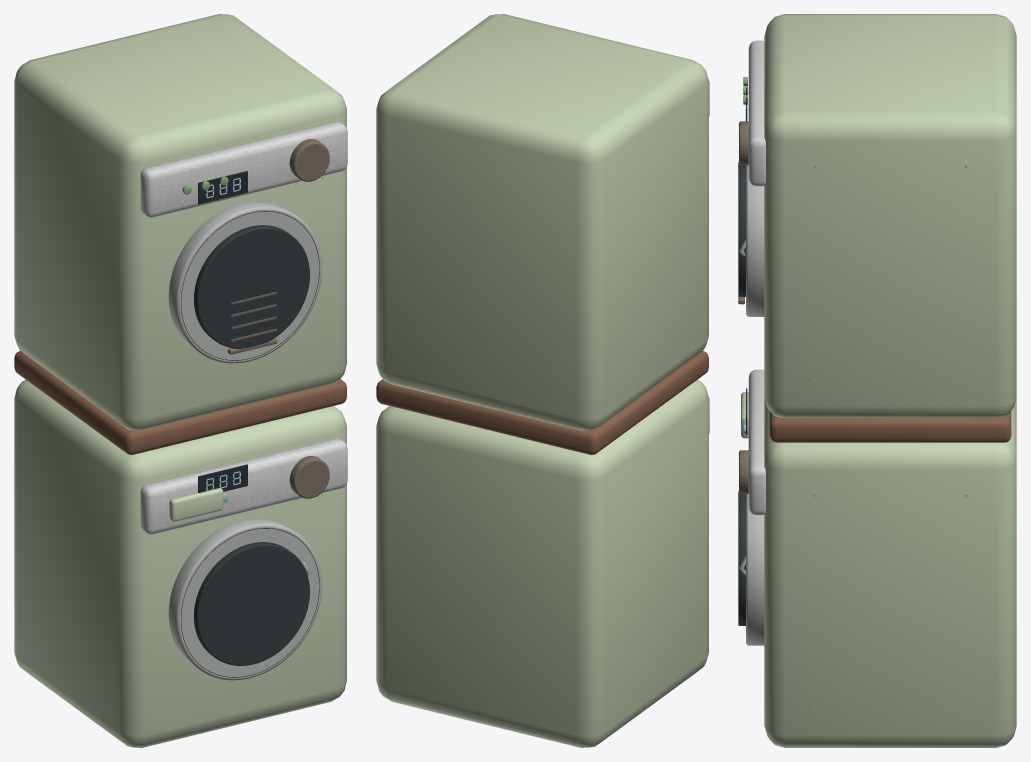
Rendered from stacked-laundry.glb.
The picture shows the model from 3 angles, left to right: view 1: azimuth 30°, elevation 25°; view 2: azimuth 150°, elevation 25°; view 3: azimuth 270°, elevation 25°; orthographic projection. The views are drawn at different scales.
Visible parts, largest first — view 1: catalog_surface_RealismUV, catalog_surface_UVMap; view 2: catalog_surface_RealismUV; view 3: catalog_surface_RealismUV, catalog_surface_UVMap.
Boxes of the visible parts, x1,y1,x2,y2 form: catalog_surface_RealismUV: [14, 14, 347, 747]; catalog_surface_UVMap: [181, 171, 309, 665]; catalog_surface_RealismUV: [376, 14, 709, 747]; catalog_surface_RealismUV: [738, 14, 1016, 747]; catalog_surface_UVMap: [738, 83, 748, 625].
Size of the model in its own units: 0.7 by 1.81 by 0.72.
Materials: 13 (1 with a texture image).
